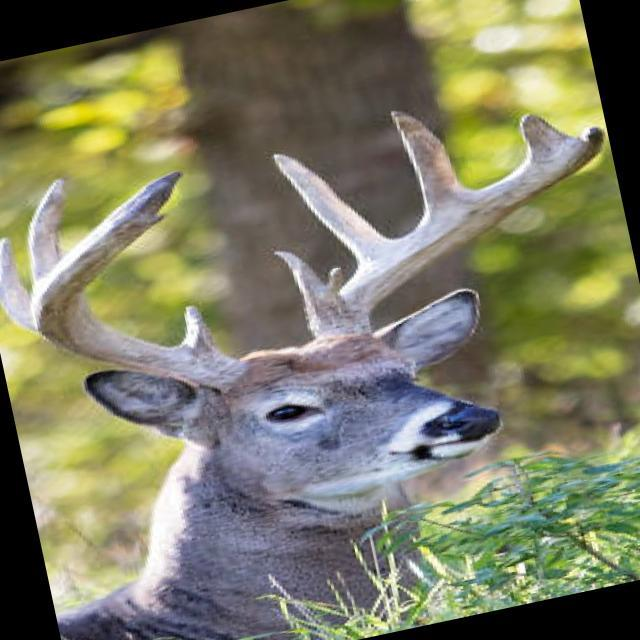L-G1: (274, 250, 334, 321)
L-G2: (272, 153, 396, 268)
L-G3: (390, 110, 476, 218)
R-F: (32, 170, 251, 390)
R-G1: (181, 304, 218, 352)
